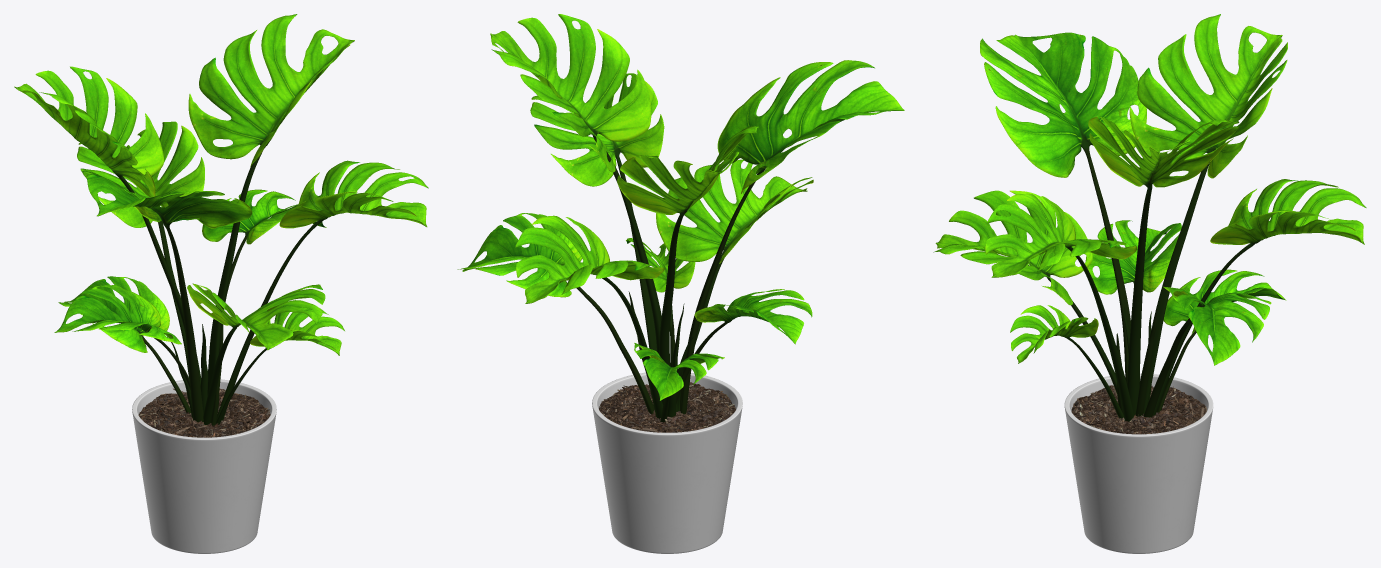
Rendered from PlantMonstera002_Blender_Cycles.gltf.
3 views of the same model, side by side, from view 1: azimuth 30°, elevation 25°; view 2: azimuth 150°, elevation 25°; view 3: azimuth 270°, elevation 25° (orthographic). The views are drawn at different scales.
Visible parts, largest first — view 1: PlantMonstera001, PlantMonsteraVase001; view 2: PlantMonstera001, PlantMonsteraVase001; view 3: PlantMonstera001, PlantMonsteraVase001.
Boxes of the visible parts, left/top/right/bottom form: PlantMonstera001: left=14, top=14, right=428, bottom=425; PlantMonsteraVase001: left=132, top=379, right=276, bottom=553; PlantMonstera001: left=457, top=14, right=904, bottom=422; PlantMonsteraVase001: left=592, top=372, right=742, bottom=553; PlantMonstera001: left=933, top=14, right=1366, bottom=421; PlantMonsteraVase001: left=1064, top=373, right=1213, bottom=553.
Size of the model in its own units: 0.4421 by 0.565 by 0.4708.
Materials: 2 (2 with a texture image).
